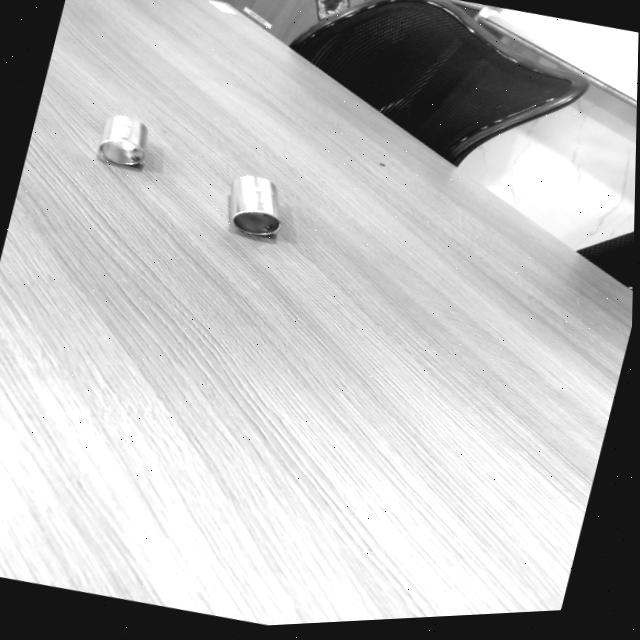Co_Lon: (226, 175, 283, 238)
Co_Nho: (95, 112, 153, 171)
